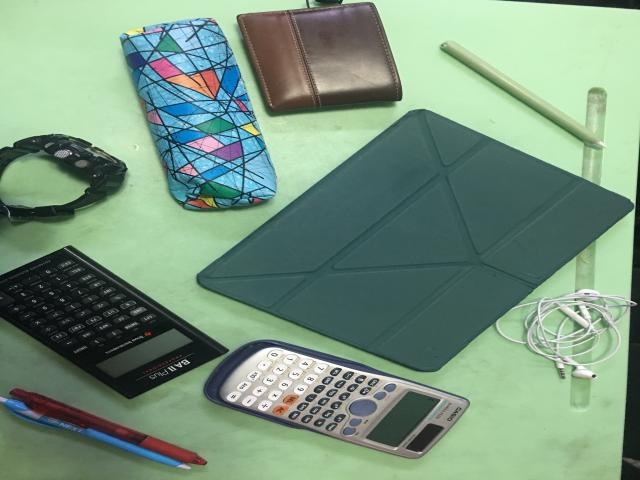Pen: (0, 389, 207, 469)
Wallet: (237, 3, 402, 112)
Watch: (0, 134, 127, 220)
wire: (495, 289, 635, 379)
